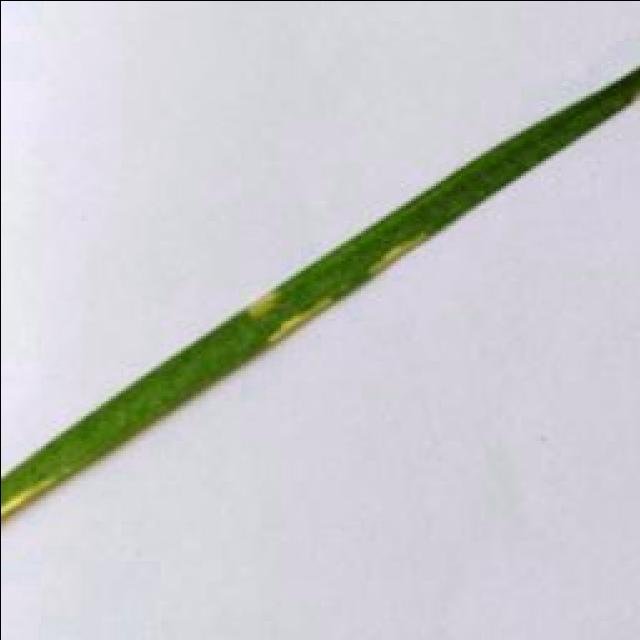Unhealthy: (264, 295, 331, 349), (365, 236, 425, 275), (0, 477, 54, 515), (239, 284, 286, 312)
